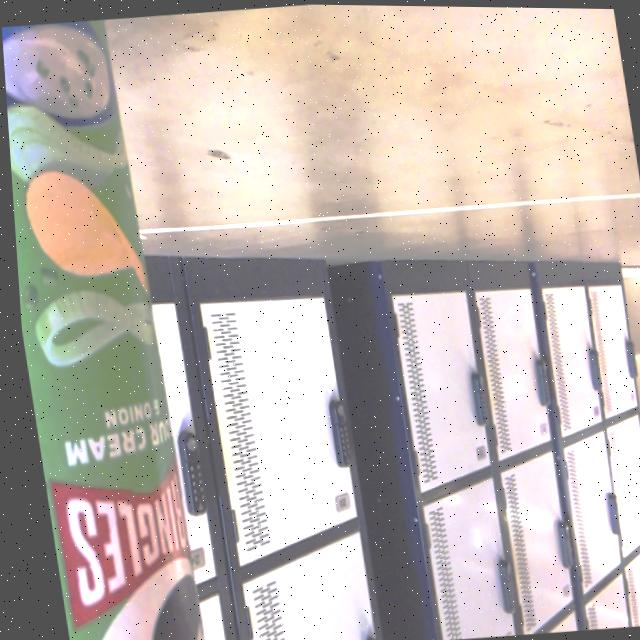greenpringles: (1, 14, 227, 640)
